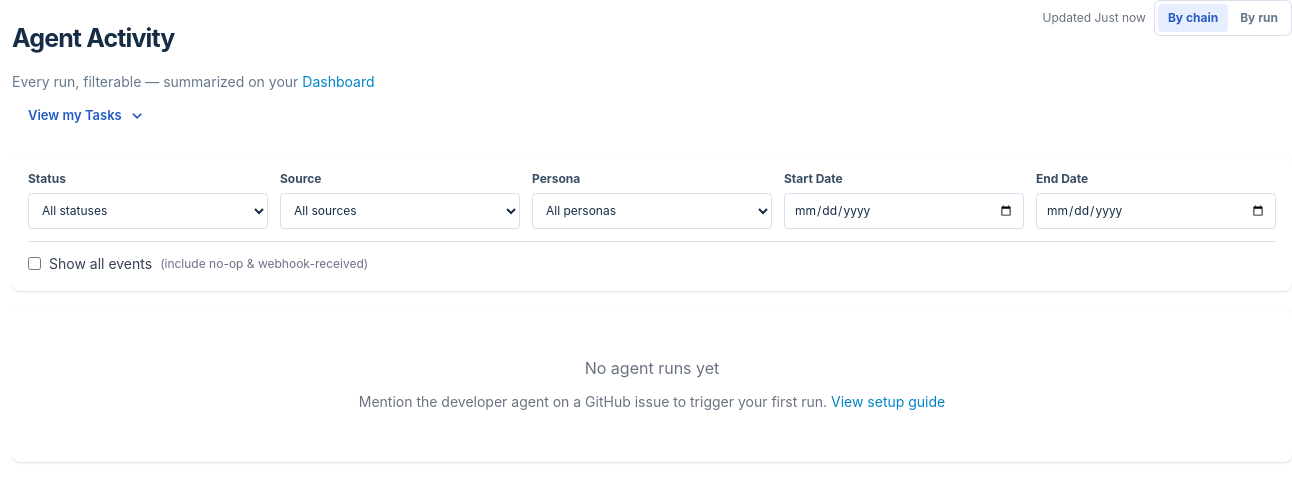
Test: AgentActivity Page › skip reasons (Issue #4020) › uses the reason as the summary cell for non-runs
Click the tab "By run".
click(1259, 18)  # box [1230, 4, 1288, 32]
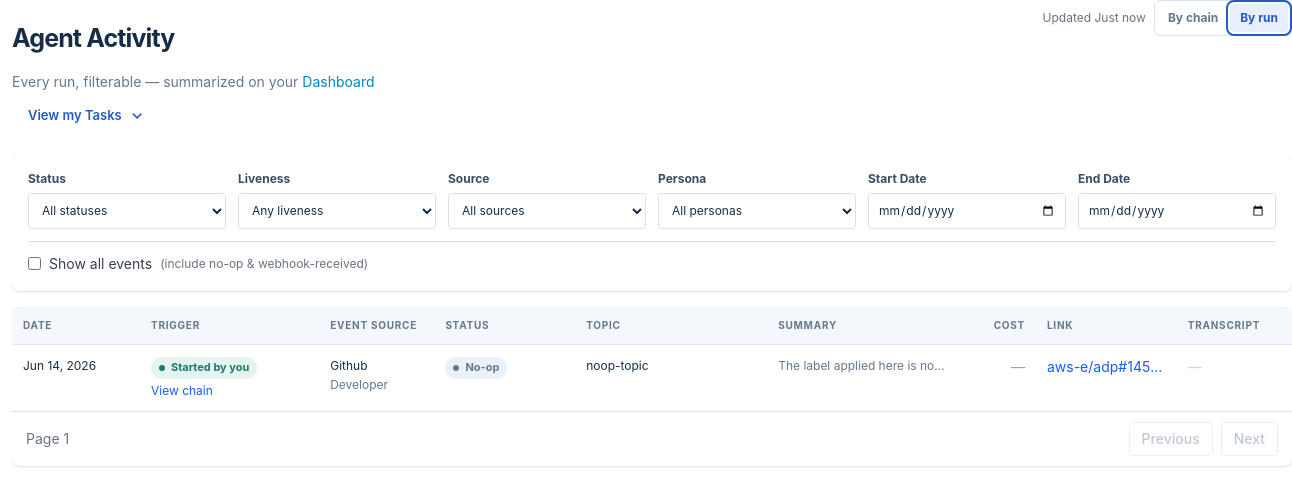
Expected: the cell "The label applied here is not mapped to any agent persona." is shown, [767, 345, 959, 411]
